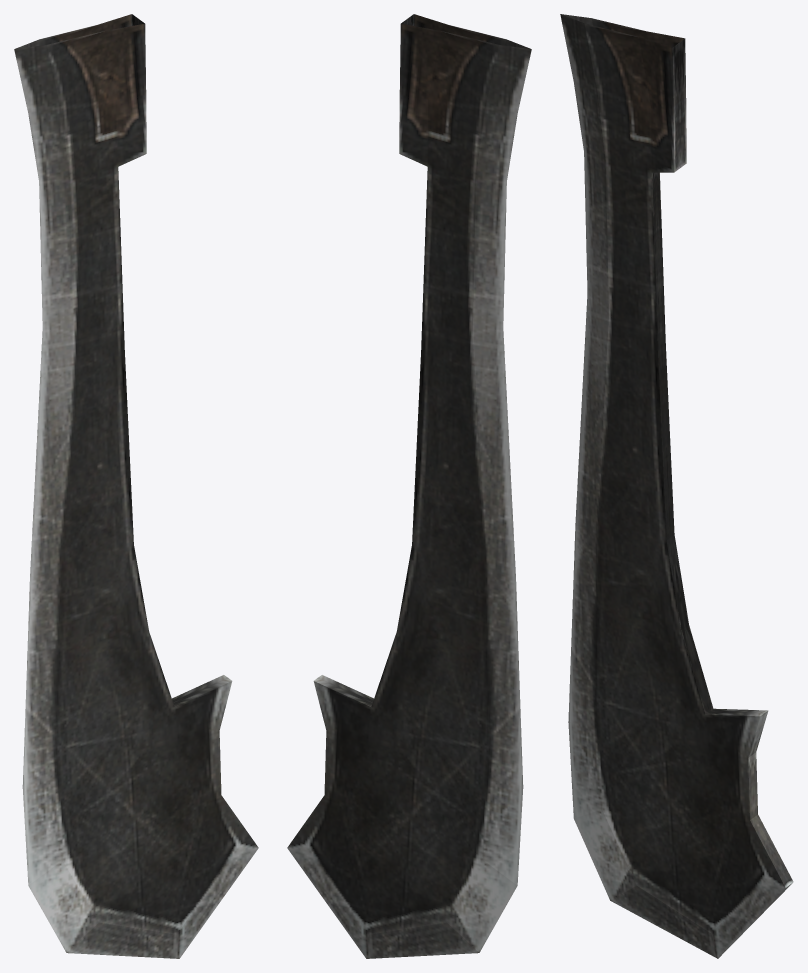
File: Goudao_body.FBX
The picture shows the model from 3 angles, left to right: view 1: azimuth 30°, elevation 25°; view 2: azimuth 150°, elevation 25°; view 3: azimuth 330°, elevation 25°; orthographic projection. The views are drawn at different scales.
Parts seen in each view (by area): view 1: Goudao_body; view 2: Goudao_body; view 3: Goudao_body.
Boxes of the visible parts, bbox=[...] form: Goudao_body: bbox=[14, 14, 258, 958]; Goudao_body: bbox=[287, 14, 531, 958]; Goudao_body: bbox=[560, 14, 793, 958].
Bounding box in the file's own units: 21.63 × 81.66 × 2.05.
Materials: 1 (1 with a texture image).
